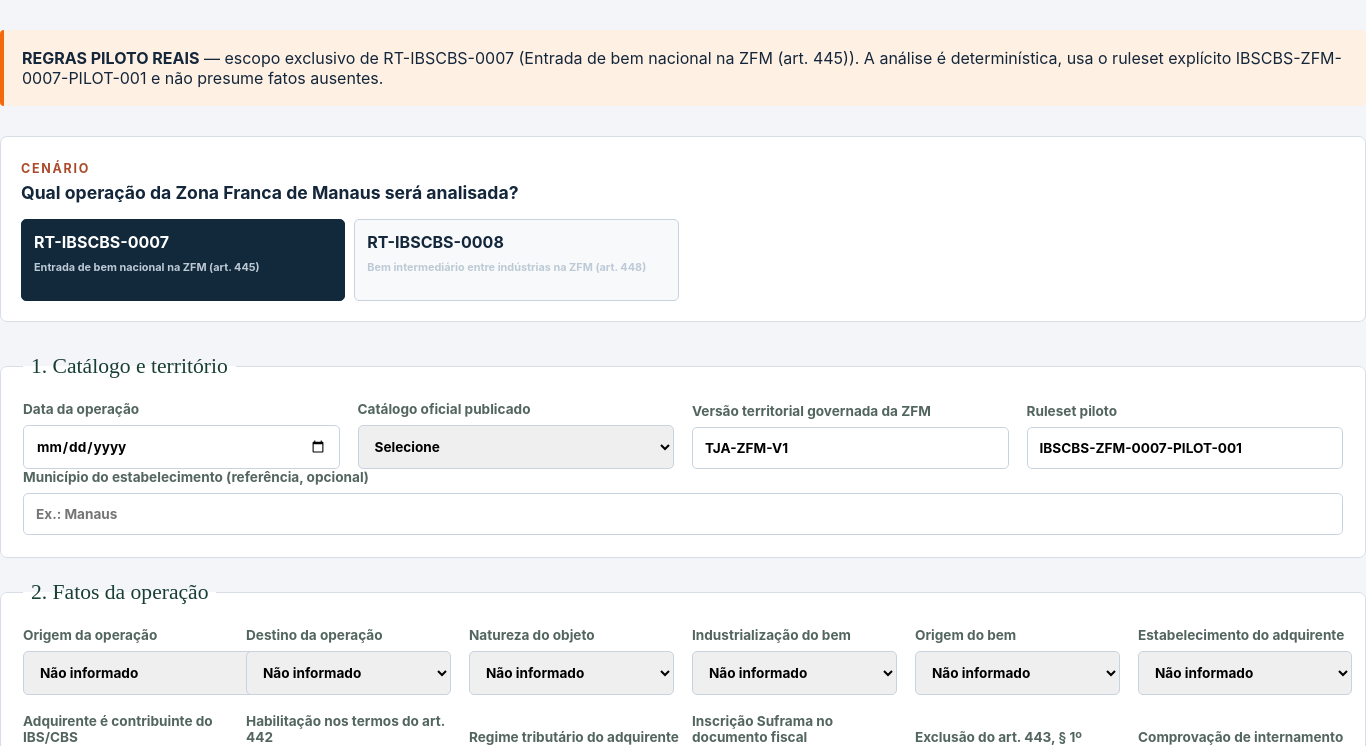
it: AssistedConsultationZfm › switches to RT-IBSCBS-0008's own fields and ruleset when selected
This screenshot has width=1366, height=746.
Click the button "RT-IBSCBS-0008" at (516, 260), box 354,219 -> 679,301
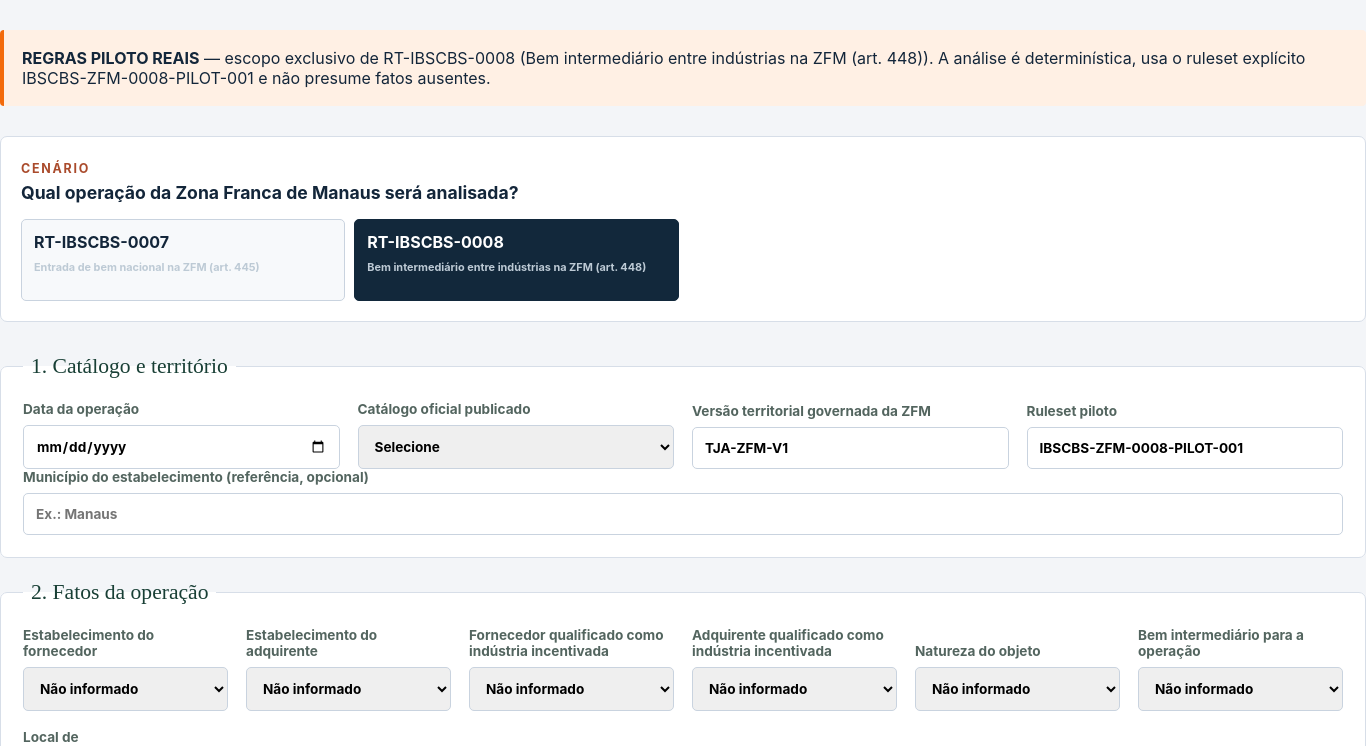
Check: the field showing "IBSCBS-ZFM-0008-PILOT-001" is shown, box 1026,427 -> 1343,469
Check: the dropdown labelled "Estabelecimento do fornecedor" is shown, box 23,667 -> 228,711
